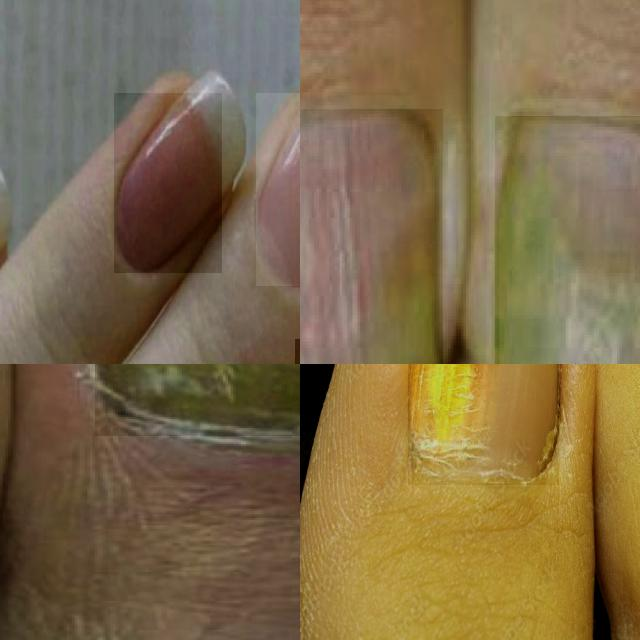diabetes: (300, 110, 443, 364), (496, 116, 640, 364), (408, 364, 559, 485), (96, 364, 300, 436)
sehat: (115, 94, 222, 273), (257, 112, 300, 285)
